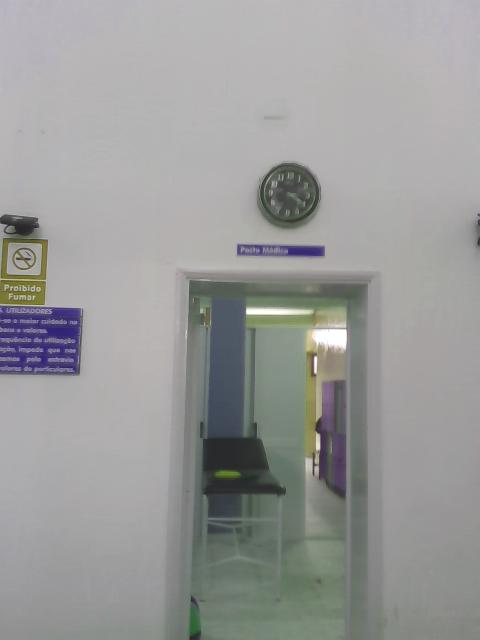open_door: (164, 264, 383, 639)
